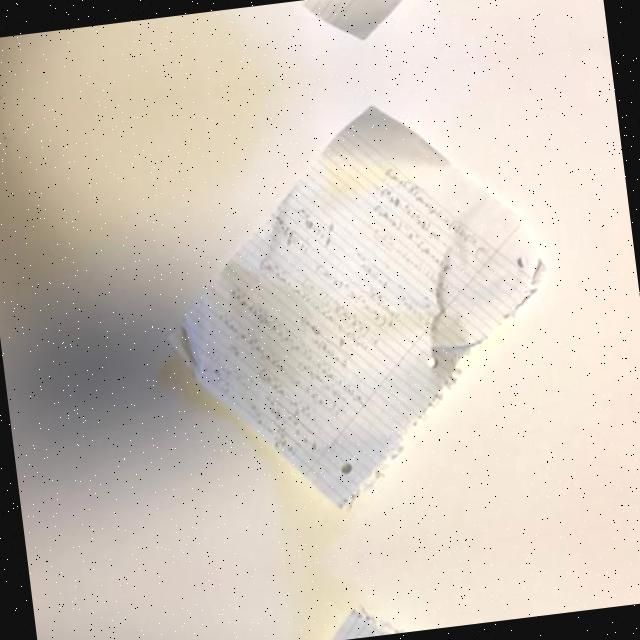paper: (132, 70, 567, 526), (120, 0, 513, 83), (194, 582, 583, 640)
